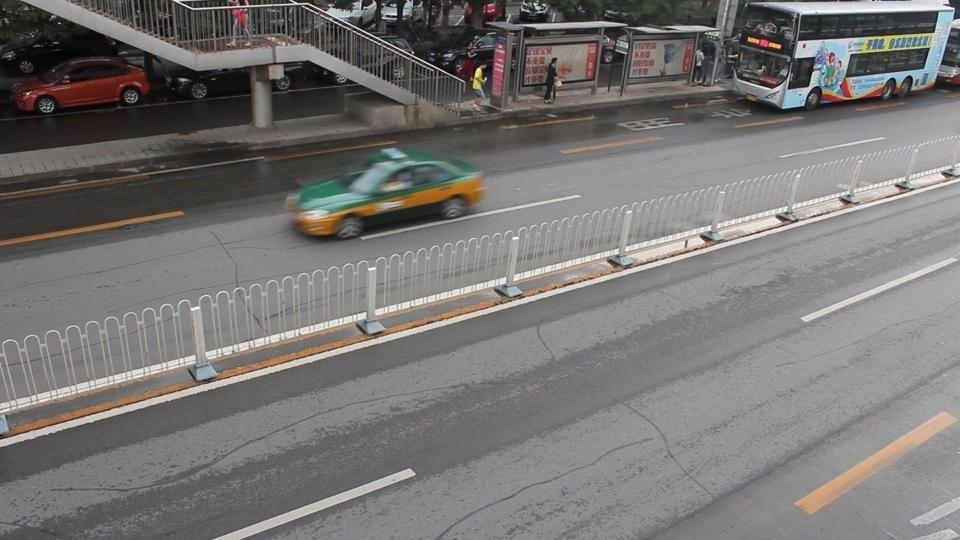car: (283, 147, 486, 241), (8, 56, 152, 115), (0, 29, 116, 77)
